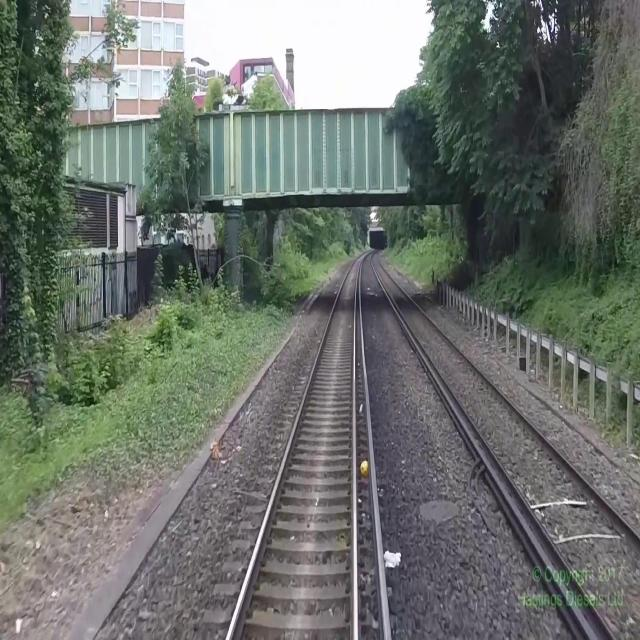rail-track: (373, 253, 640, 639), (231, 255, 363, 639)
